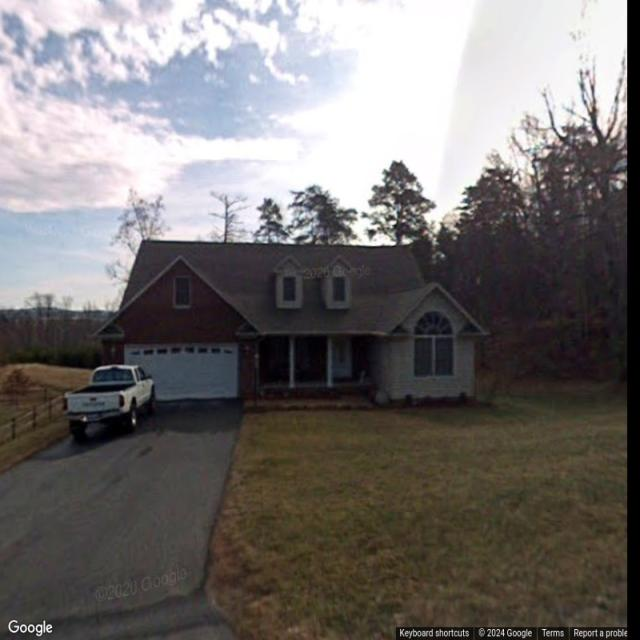House: (88, 239, 492, 402)
